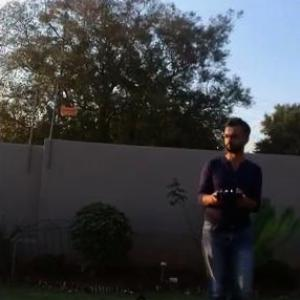follow: (194, 112, 266, 299)
